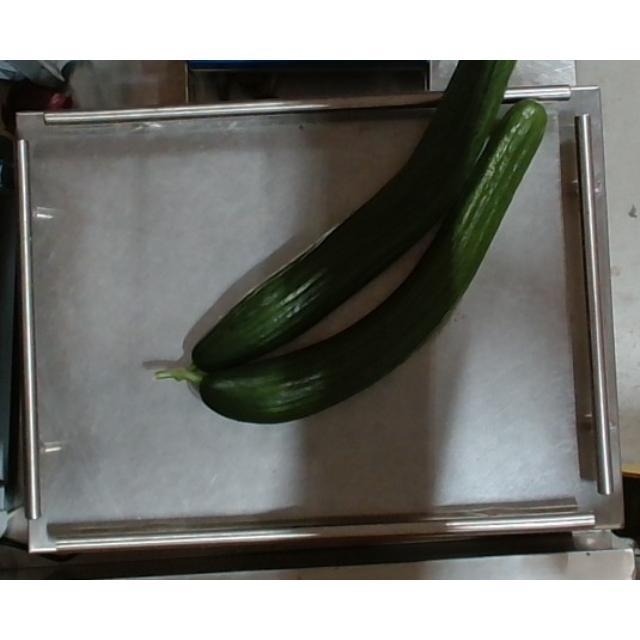cucumber: (180, 93, 550, 427), (150, 61, 524, 380)
